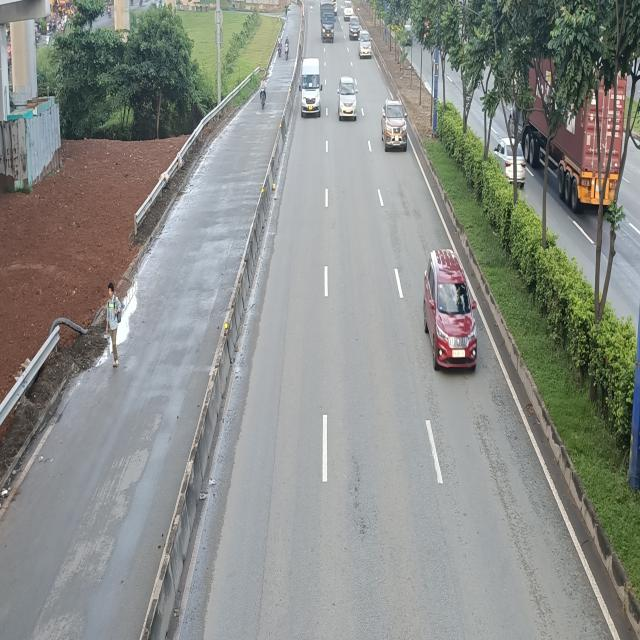car: (423, 247, 477, 372), (381, 101, 408, 152), (338, 78, 358, 121)
van: (300, 59, 323, 118)
